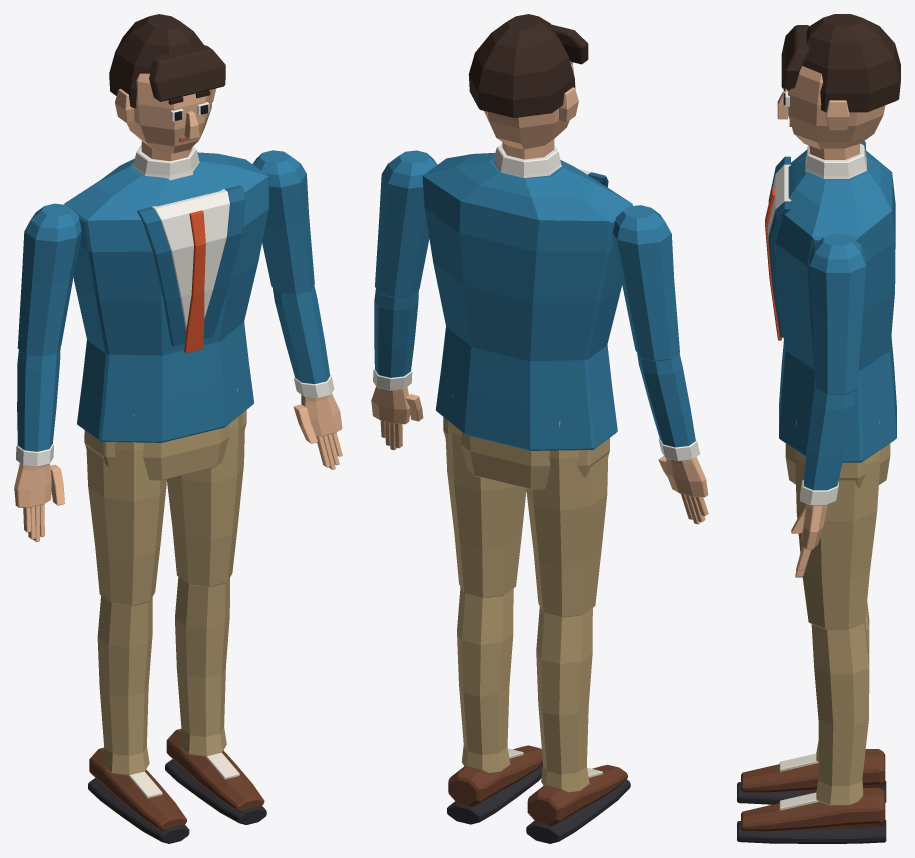
File: WL_Human_Adult_A.glb
3 views of the same model, side by side, from view 1: azimuth 30°, elevation 25°; view 2: azimuth 150°, elevation 25°; view 3: azimuth 270°, elevation 25° (orthographic). The views are drawn at different scales.
Visible parts, largest first — view 1: WL_Human_Adult_A_Torso, WL_Human_Adult_A_Leg_Upper_R, WL_Human_Adult_A_Leg_Lower_R, WL_Human_Adult_A_Leg_Lower_L, WL_Human_Adult_A_Leg_Upper_L, WL_Human_Adult_A_Arm_Upper_R, WL_Human_Adult_A_Hair, WL_Human_Adult_A_Arm_Upper_L, WL_Human_Adult_A_Lapels, WL_Human_Adult_A_ShirtFront, WL_Human_Adult_A_Arm_Lower_R, WL_Human_Adult_A_Hips (+10 smaller); view 2: WL_Human_Adult_A_Torso, WL_Human_Adult_A_Leg_Upper_R, WL_Human_Adult_A_Hair, WL_Human_Adult_A_Leg_Lower_L, WL_Human_Adult_A_Leg_Lower_R, WL_Human_Adult_A_Leg_Upper_L, WL_Human_Adult_A_Arm_Upper_R, WL_Human_Adult_A_Arm_Upper_L, WL_Human_Adult_A_Hips, WL_Human_Adult_A_Arm_Lower_R, WL_Human_Adult_A_Arm_Lower_L, WL_Human_Adult_A_Shoe_R (+7 smaller); view 3: WL_Human_Adult_A_Torso, WL_Human_Adult_A_Leg_Upper_L, WL_Human_Adult_A_Leg_Lower_L, WL_Human_Adult_A_Hair, WL_Human_Adult_A_Arm_Upper_L, WL_Human_Adult_A_Shoe_L, WL_Human_Adult_A_Arm_Lower_L, WL_Human_Adult_A_Head, WL_Human_Adult_A_Shoe_R, WL_Human_Adult_A_Sole_L, WL_Human_Adult_A_Hand_L, WL_Human_Adult_A_Collar (+10 smaller).
Part boxes in pixels (x1=…): WL_Human_Adult_A_Torso: x1=64, y1=152, x2=269, y2=442; WL_Human_Adult_A_Leg_Upper_R: x1=86, y1=414, x2=166, y2=606; WL_Human_Adult_A_Leg_Lower_R: x1=97, y1=596, x2=152, y2=775; WL_Human_Adult_A_Leg_Lower_L: x1=175, y1=577, x2=229, y2=756; WL_Human_Adult_A_Leg_Upper_L: x1=167, y1=388, x2=244, y2=587; WL_Human_Adult_A_Arm_Upper_R: x1=17, y1=203, x2=81, y2=356; WL_Human_Adult_A_Hair: x1=109, y1=14, x2=225, y2=108; WL_Human_Adult_A_Arm_Upper_L: x1=252, y1=150, x2=314, y2=294; WL_Human_Adult_A_Lapels: x1=137, y1=185, x2=245, y2=346; WL_Human_Adult_A_ShirtFront: x1=152, y1=189, x2=229, y2=330; WL_Human_Adult_A_Arm_Lower_R: x1=17, y1=347, x2=60, y2=451; WL_Human_Adult_A_Hips: x1=84, y1=410, x2=246, y2=480; WL_Human_Adult_A_Torso: x1=422, y1=153, x2=632, y2=450; WL_Human_Adult_A_Leg_Upper_R: x1=526, y1=421, x2=608, y2=617; WL_Human_Adult_A_Hair: x1=468, y1=14, x2=588, y2=117; WL_Human_Adult_A_Leg_Lower_L: x1=457, y1=587, x2=513, y2=773; WL_Human_Adult_A_Leg_Lower_R: x1=536, y1=606, x2=592, y2=792; WL_Human_Adult_A_Leg_Upper_L: x1=445, y1=395, x2=526, y2=598; WL_Human_Adult_A_Arm_Upper_R: x1=612, y1=205, x2=679, y2=361; WL_Human_Adult_A_Arm_Upper_L: x1=375, y1=150, x2=437, y2=297; WL_Human_Adult_A_Hips: x1=443, y1=417, x2=609, y2=489; WL_Human_Adult_A_Arm_Lower_R: x1=637, y1=353, x2=695, y2=447; WL_Human_Adult_A_Arm_Lower_L: x1=374, y1=289, x2=418, y2=377; WL_Human_Adult_A_Shoe_R: x1=527, y1=764, x2=627, y2=826; WL_Human_Adult_A_Torso: x1=775, y1=149, x2=896, y2=462; WL_Human_Adult_A_Leg_Upper_L: x1=795, y1=421, x2=880, y2=629; WL_Human_Adult_A_Leg_Lower_L: x1=811, y1=622, x2=869, y2=805; WL_Human_Adult_A_Hair: x1=781, y1=14, x2=900, y2=112; WL_Human_Adult_A_Arm_Upper_L: x1=809, y1=233, x2=865, y2=394; WL_Human_Adult_A_Shoe_L: x1=741, y1=788, x2=885, y2=831; WL_Human_Adult_A_Arm_Lower_L: x1=803, y1=386, x2=855, y2=490; WL_Human_Adult_A_Head: x1=788, y1=66, x2=885, y2=149; WL_Human_Adult_A_Shoe_R: x1=741, y1=749, x2=885, y2=792; WL_Human_Adult_A_Sole_L: x1=737, y1=820, x2=886, y2=843; WL_Human_Adult_A_Hand_L: x1=791, y1=503, x2=827, y2=577; WL_Human_Adult_A_Collar: x1=805, y1=143, x2=866, y2=178.
Bounding box in the file's own units: 0.7975 × 1.82 × 0.338.
